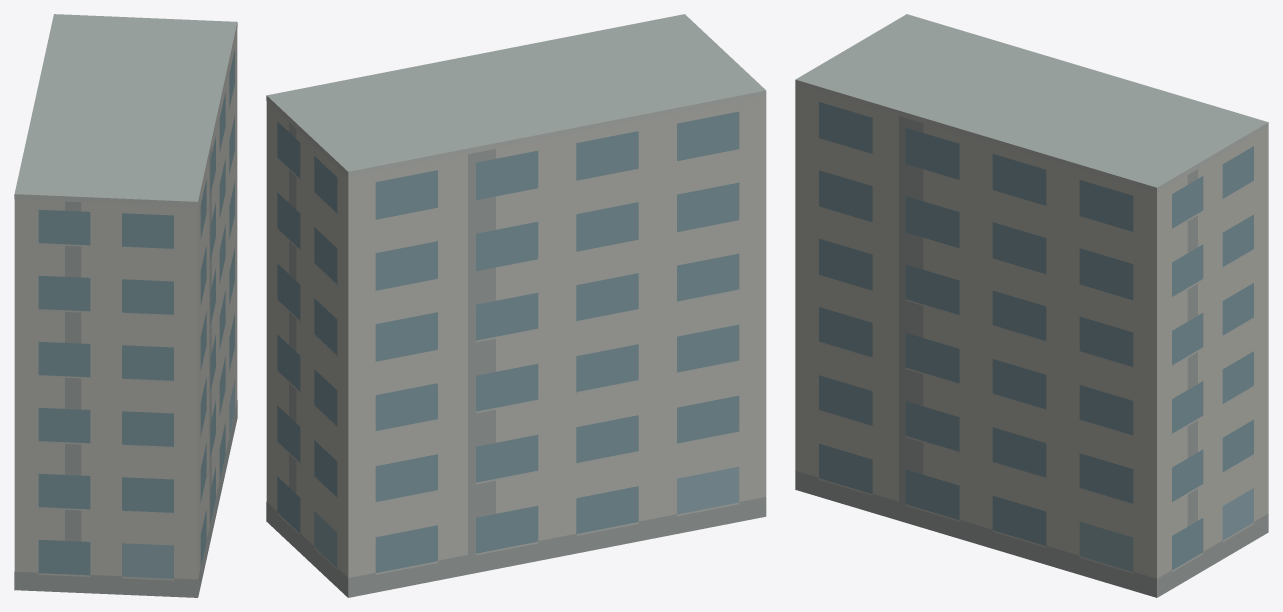
File: survey-upis-32554316.glb
The picture shows the model from 3 angles, left to right: view 1: azimuth 30°, elevation 25°; view 2: azimuth 150°, elevation 25°; view 3: azimuth 270°, elevation 25°; orthographic projection. The views are drawn at different scales.
Visible parts, largest first — view 1: survey-upis-32554316.tmp; view 2: survey-upis-32554316.tmp; view 3: survey-upis-32554316.tmp.
Part boxes in pixels (x1,y1,x2,y2): survey-upis-32554316.tmp: [14, 14, 237, 597]; survey-upis-32554316.tmp: [266, 14, 766, 597]; survey-upis-32554316.tmp: [795, 14, 1268, 597].
Size of the model in its own units: 16.63 by 18.3 by 19.15.
